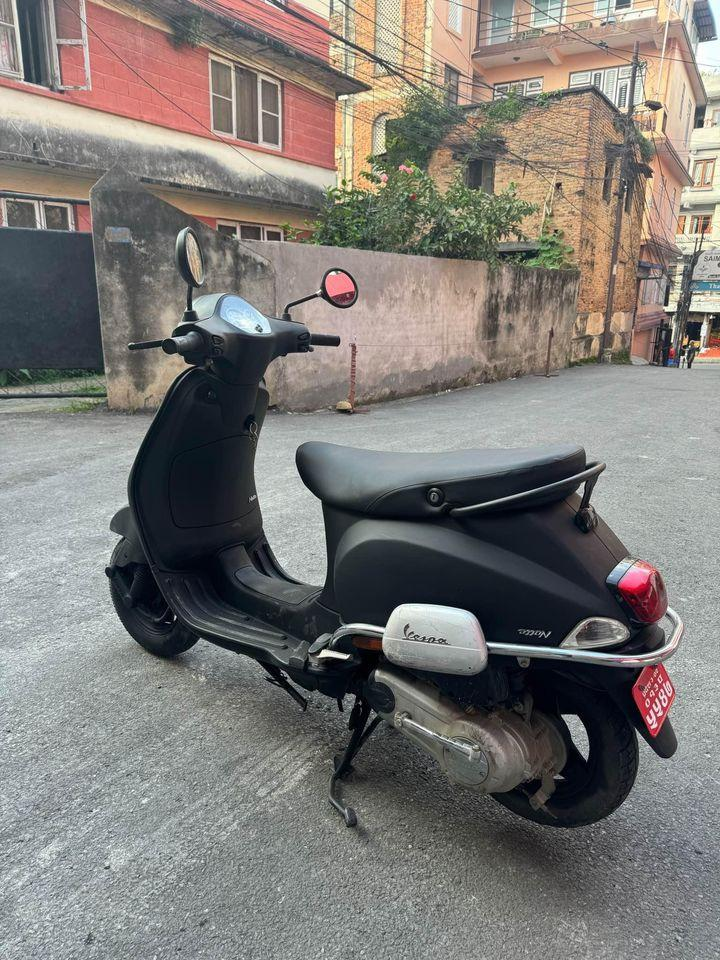scooter: (106, 216, 697, 870)
